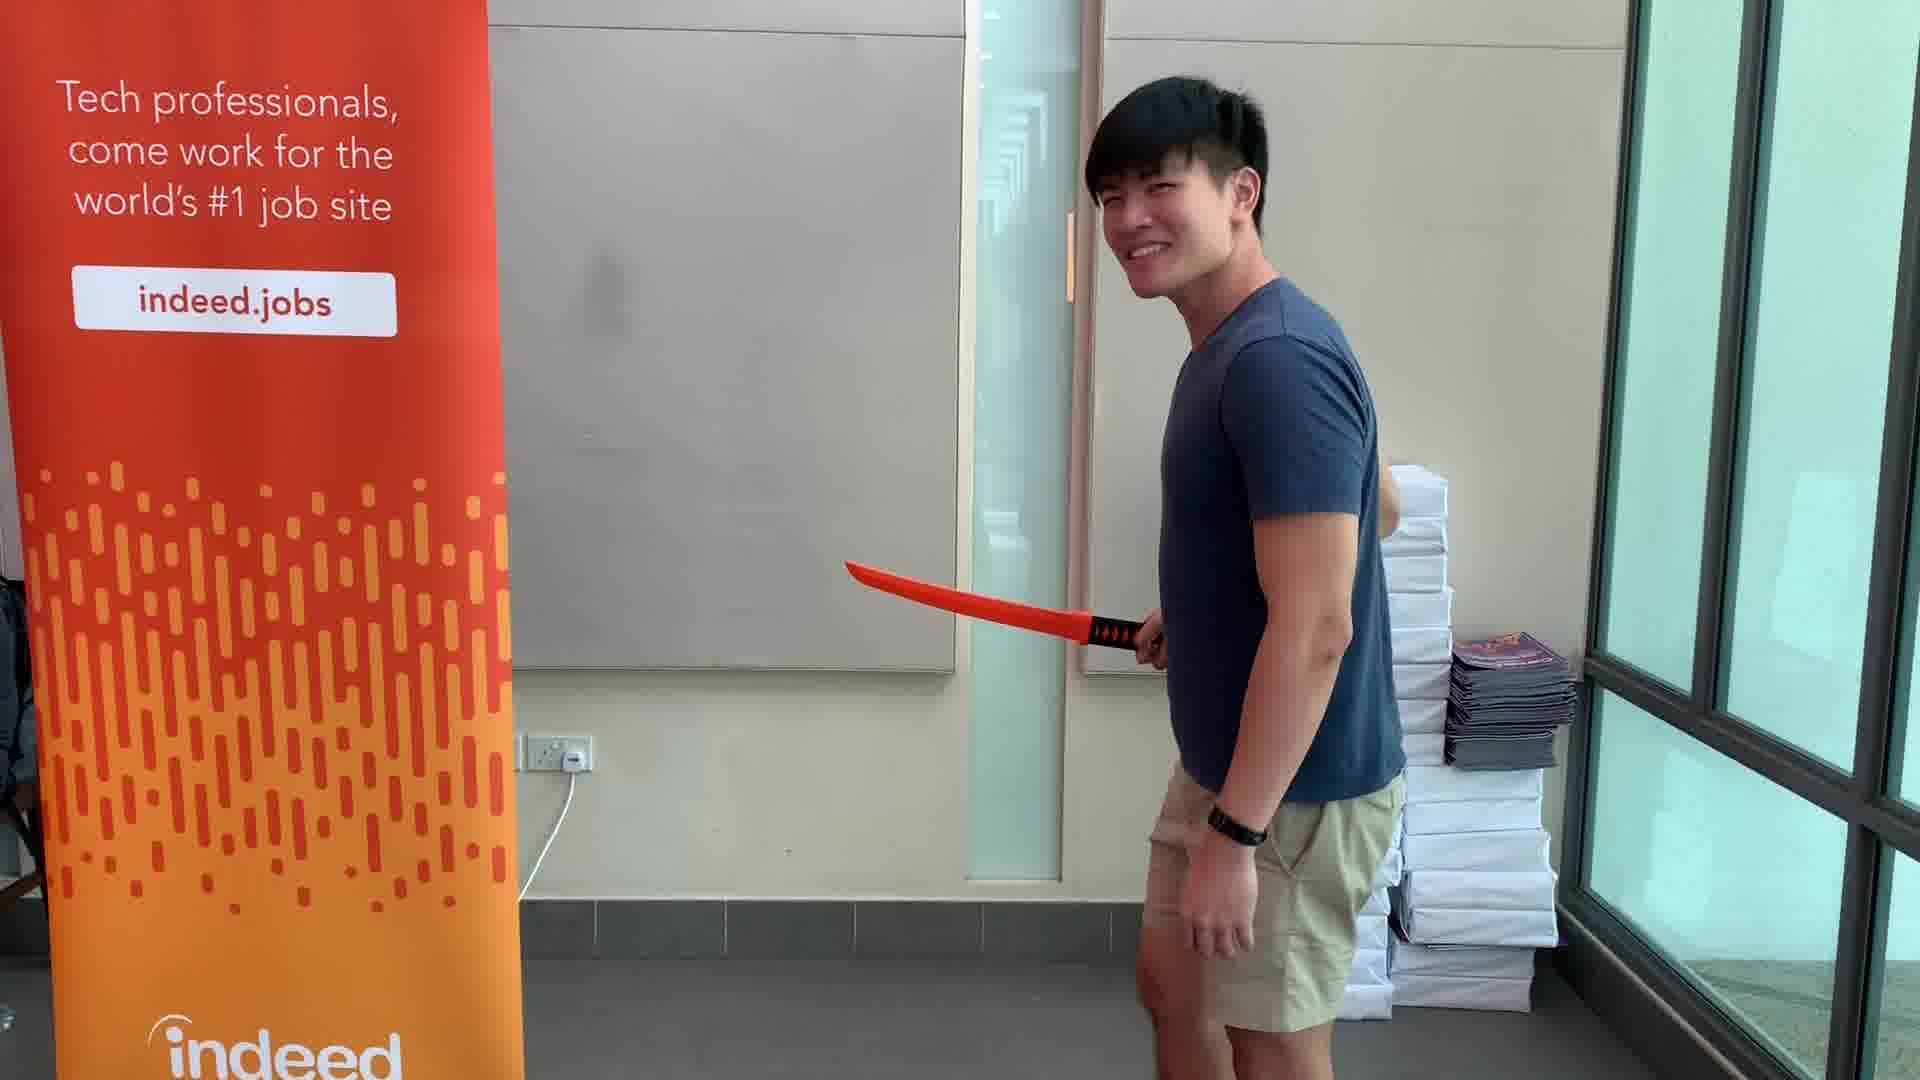knife: (835, 550, 1193, 666)
